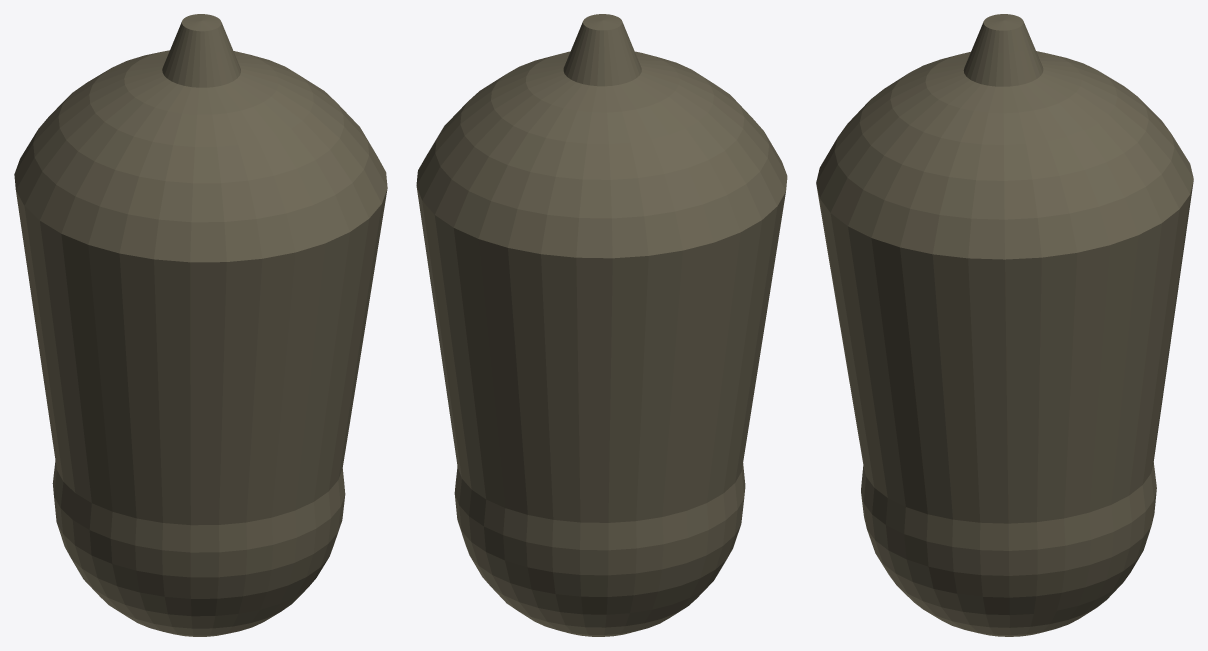
The model's file is van_gogh_body.fbx.
The picture shows the model from 3 angles, left to right: view 1: azimuth 30°, elevation 25°; view 2: azimuth 150°, elevation 25°; view 3: azimuth 270°, elevation 25°; orthographic projection.
Parts seen in each view (by area): view 1: Sphere; view 2: Sphere; view 3: Sphere.
Boxes of the visible parts, x1=… form: Sphere: x1=14, y1=14, x2=387, y2=636; Sphere: x1=416, y1=14, x2=787, y2=636; Sphere: x1=816, y1=14, x2=1193, y2=636.
Size of the model in its own units: 182 by 325 by 185.
